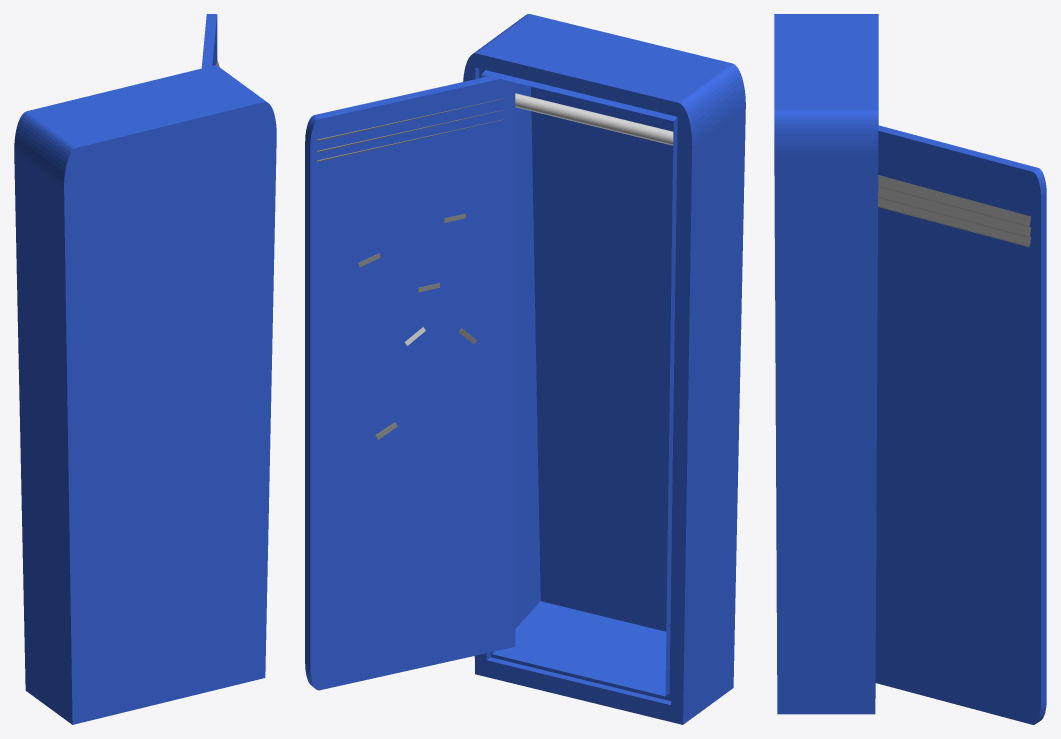
File: armoir ouverte.fbx
The picture shows the model from 3 angles, left to right: view 1: azimuth 30°, elevation 25°; view 2: azimuth 150°, elevation 25°; view 3: azimuth 270°, elevation 25°; orthographic projection. The views are drawn at different scales.
Visible parts, largest first — view 1: Cube.022, Cube.025; view 2: Cube.022, Cube.025, Cylinder.007; view 3: Cube.025, Cube.022.
Part boxes in pixels (<box>): Cube.022: <box>14,65,276,724</box>; Cube.025: <box>201,14,219,68</box>; Cube.022: <box>463,14,745,724</box>; Cube.025: <box>305,76,515,690</box>; Cylinder.007: <box>515,93,673,145</box>; Cube.025: <box>875,125,1046,724</box>; Cube.022: <box>774,14,878,714</box>.
Size of the model in its own units: 994 by 1952 by 800.
